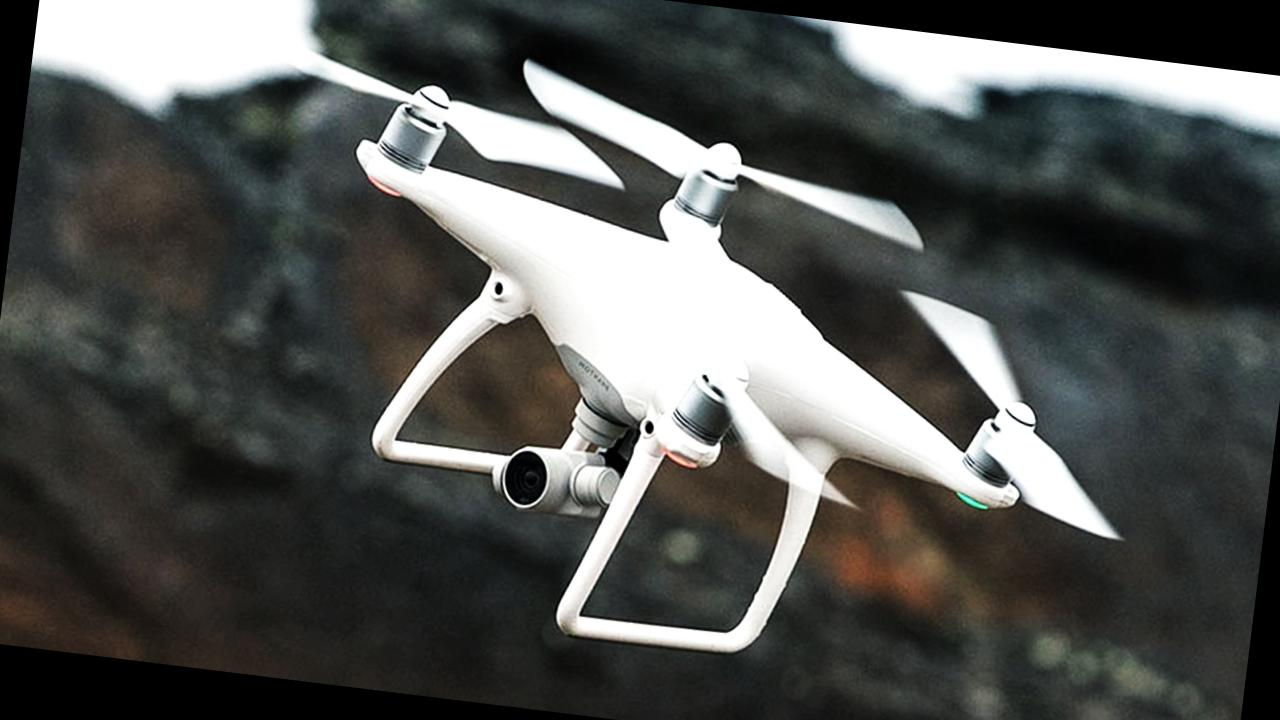drone: (277, 28, 1172, 561)
